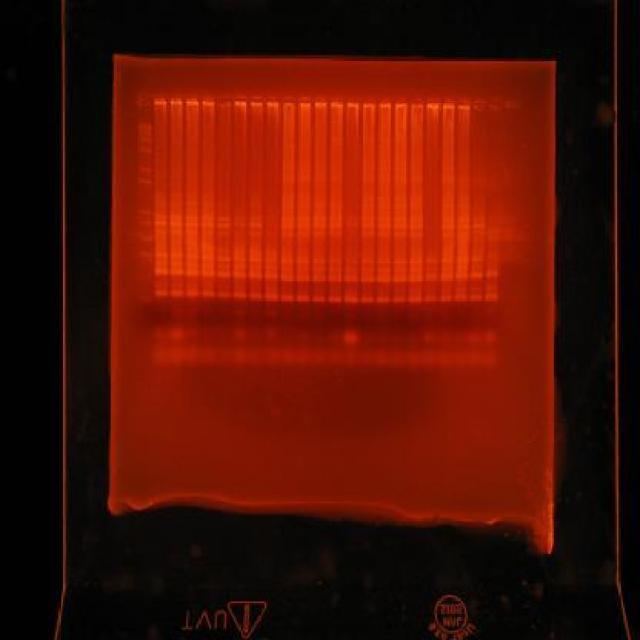B: (340, 328, 360, 347), (214, 344, 230, 366), (148, 347, 167, 365), (278, 346, 296, 364), (482, 352, 498, 372), (388, 348, 404, 368), (466, 348, 482, 368), (149, 326, 166, 344), (167, 348, 184, 366), (372, 348, 388, 367), (421, 348, 436, 368), (184, 348, 200, 366), (296, 347, 312, 365), (262, 346, 278, 364), (404, 350, 420, 368), (436, 350, 452, 368), (167, 326, 184, 342), (341, 350, 357, 367), (311, 349, 327, 366), (357, 350, 372, 368), (231, 347, 246, 365), (467, 330, 482, 348), (248, 346, 263, 364), (327, 348, 341, 367), (184, 326, 200, 342), (230, 327, 247, 342), (200, 346, 214, 364), (452, 350, 466, 368), (452, 328, 466, 346), (327, 329, 341, 346), (421, 330, 437, 344), (264, 328, 278, 343), (437, 330, 452, 344), (484, 332, 498, 346), (343, 294, 359, 306), (294, 330, 310, 342), (374, 294, 392, 304), (280, 293, 296, 304), (248, 290, 262, 302), (184, 268, 200, 278), (343, 264, 359, 274), (264, 292, 280, 302), (184, 306, 200, 316), (154, 289, 168, 300), (327, 294, 342, 304), (328, 274, 343, 284), (407, 294, 422, 304), (408, 274, 423, 284), (343, 274, 359, 283), (232, 291, 248, 300), (295, 294, 311, 303), (295, 274, 311, 283), (423, 294, 439, 303), (408, 257, 424, 266), (264, 310, 280, 319), (342, 310, 358, 319), (424, 272, 438, 282), (360, 294, 374, 304), (360, 274, 374, 284), (376, 274, 390, 284), (170, 306, 184, 316), (201, 290, 216, 299), (184, 253, 200, 261), (184, 260, 200, 268), (484, 270, 500, 278), (468, 272, 484, 280), (184, 282, 200, 290), (200, 270, 216, 278), (200, 254, 216, 262), (311, 295, 327, 303), (310, 274, 326, 282), (310, 258, 326, 266), (216, 270, 232, 278), (216, 263, 232, 271), (295, 265, 311, 273), (279, 274, 295, 282), (279, 265, 295, 273), (279, 257, 295, 265), (438, 274, 454, 282), (440, 232, 456, 240), (408, 230, 424, 238), (263, 272, 279, 280), (264, 256, 280, 264), (263, 264, 279, 272), (295, 230, 311, 238), (296, 215, 312, 223), (391, 275, 407, 283), (392, 267, 408, 275), (391, 258, 407, 266), (360, 257, 376, 265), (376, 257, 392, 265), (376, 266, 392, 274), (360, 222, 376, 230), (154, 281, 168, 290), (170, 280, 184, 289), (453, 293, 467, 302), (438, 293, 452, 302), (456, 231, 470, 240), (248, 271, 262, 280), (377, 230, 391, 239), (484, 294, 499, 302), (484, 284, 499, 292), (201, 262, 216, 270), (327, 266, 342, 274), (328, 257, 343, 265), (408, 266, 423, 274), (468, 285, 483, 293), (391, 295, 406, 303), (201, 282, 216, 290), (327, 288, 342, 296), (438, 286, 453, 294), (154, 268, 168, 276), (170, 268, 184, 276), (169, 259, 183, 267), (170, 290, 184, 298), (186, 290, 200, 298), (486, 254, 500, 262), (488, 235, 502, 243), (468, 294, 482, 302), (200, 229, 214, 237), (200, 214, 214, 222), (328, 222, 342, 230), (312, 266, 326, 274), (312, 222, 326, 230), (217, 290, 231, 298), (232, 270, 246, 278), (232, 263, 246, 271), (296, 257, 310, 265), (454, 273, 468, 281), (440, 256, 454, 264), (440, 223, 454, 231), (456, 222, 470, 230), (248, 256, 262, 264), (453, 285, 467, 293), (248, 220, 262, 228), (280, 230, 294, 238), (232, 308, 246, 316), (393, 230, 407, 238), (393, 222, 407, 230), (360, 265, 374, 273), (377, 222, 391, 230), (360, 230, 374, 238), (232, 283, 246, 291), (248, 230, 262, 238), (424, 286, 438, 294), (344, 215, 359, 222), (406, 288, 423, 294), (169, 228, 183, 235), (470, 256, 486, 262), (200, 222, 216, 228), (343, 258, 359, 264), (312, 216, 328, 222), (440, 217, 456, 223), (408, 217, 424, 223), (392, 216, 408, 222), (376, 216, 392, 222), (343, 288, 359, 294), (264, 222, 280, 228), (471, 223, 486, 229), (344, 222, 359, 228), (471, 230, 486, 236), (154, 220, 168, 226), (154, 214, 168, 220), (154, 228, 168, 234), (170, 252, 184, 258), (169, 221, 183, 227), (169, 214, 183, 220), (184, 222, 198, 228), (184, 216, 198, 222), (472, 217, 486, 223), (328, 230, 342, 236), (328, 216, 342, 222), (312, 231, 326, 237), (216, 256, 230, 262), (217, 222, 231, 228), (216, 231, 230, 237), (216, 216, 230, 222), (233, 222, 247, 228), (233, 216, 247, 222), (232, 256, 246, 262), (456, 256, 470, 262), (454, 264, 468, 270), (440, 266, 454, 272), (456, 216, 470, 222), (424, 258, 438, 264), (409, 224, 423, 230), (488, 228, 502, 234), (248, 264, 262, 270), (264, 286, 278, 292), (280, 223, 294, 229), (280, 216, 294, 222), (296, 223, 310, 229), (360, 216, 374, 222), (296, 288, 310, 294), (185, 230, 198, 236), (154, 253, 168, 258), (248, 216, 262, 221), (155, 262, 168, 266)
L: (133, 88, 522, 117)
M: (134, 90, 154, 366)
P: (136, 233, 152, 242), (138, 294, 154, 302), (139, 250, 153, 258), (138, 146, 152, 154), (138, 208, 152, 215), (138, 218, 152, 224), (138, 177, 152, 183), (138, 137, 152, 143), (138, 166, 151, 172), (136, 132, 152, 136), (138, 130, 152, 132)
Pc: (136, 92, 153, 108), (153, 94, 169, 108), (184, 94, 200, 108), (169, 94, 183, 108), (202, 94, 216, 108), (218, 94, 232, 108), (282, 94, 296, 108), (298, 94, 312, 108), (330, 96, 344, 110), (441, 98, 456, 111), (344, 98, 360, 110), (488, 98, 504, 110), (456, 98, 472, 110), (233, 95, 247, 108), (250, 95, 264, 108), (266, 96, 280, 109), (314, 95, 328, 108), (473, 98, 487, 111), (410, 98, 424, 111), (393, 98, 409, 109), (504, 98, 518, 110), (362, 98, 376, 110), (426, 100, 440, 111), (378, 98, 392, 109)
